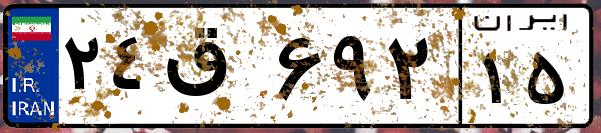1: (475, 38, 525, 113)
2: (385, 28, 445, 110), (57, 26, 110, 100)
4: (110, 28, 158, 98)
5: (525, 38, 570, 115)
6: (270, 28, 330, 110)
9: (330, 28, 385, 110)
ق: (158, 20, 270, 120)
